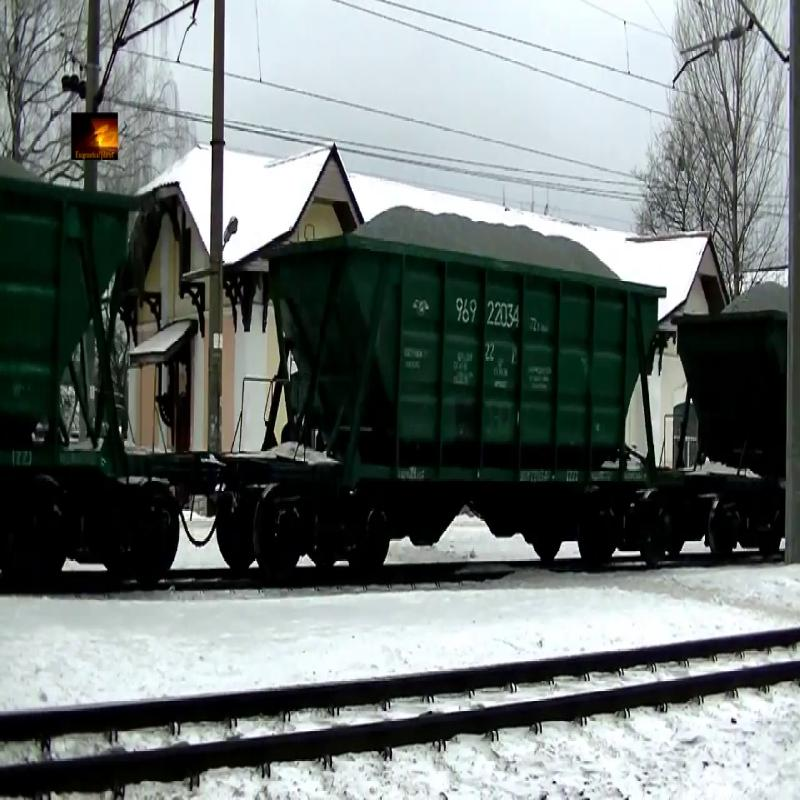train: (263, 196, 673, 578), (1, 147, 147, 563)
